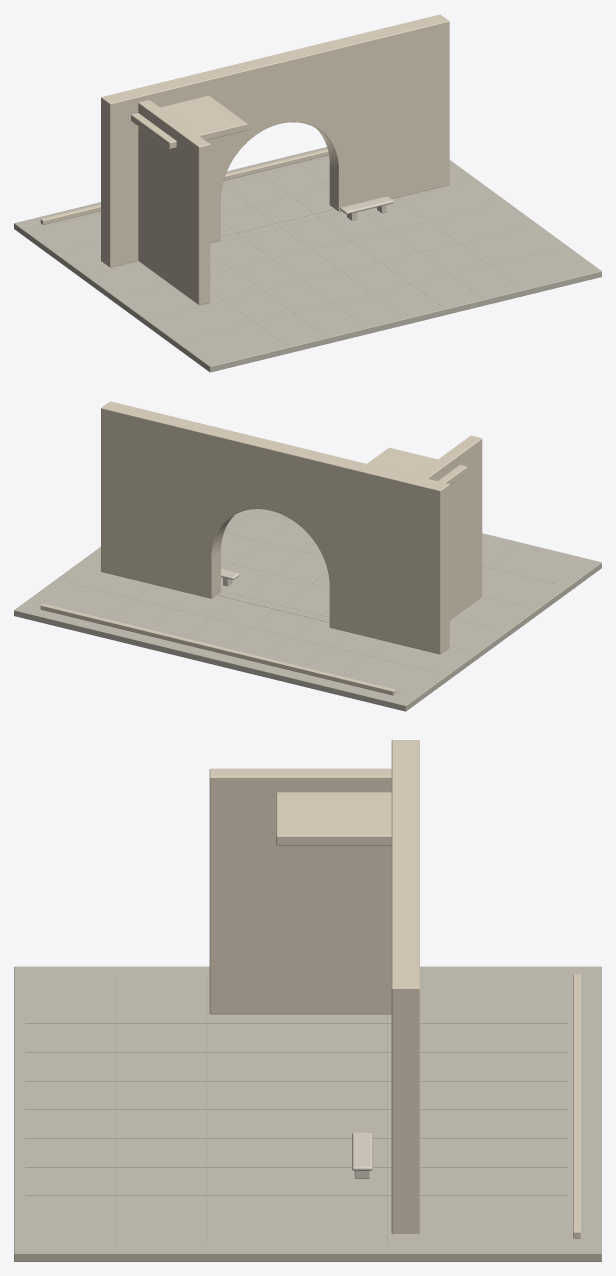
File: daylight.glb
3 renders of one model, top to bottom at view 1: azimuth 30°, elevation 25°; view 2: azimuth 150°, elevation 25°; view 3: azimuth 270°, elevation 25°, orthographic. The views are drawn at different scales.
Parts seen in each view (by area): view 1: Terrace / substantial stone slab, 01 / Honed stone architecture / Architecture / warm mineral , Terrace / distant parapet cap, 02 / Stone details and sculptural bench / Furniture / ivory ; view 2: 01 / Honed stone architecture / Architecture / warm mineral , Terrace / substantial stone slab, Terrace / distant parapet cap; view 3: Terrace / substantial stone slab, 01 / Honed stone architecture / Architecture / warm mineral , 02 / Stone details and sculptural bench / Architecture / rec, Terrace / distant parapet cap, 02 / Stone details and sculptural bench / Furniture / ivory .
Boxes of the visible parts, bbox=[...] form: Terrace / substantial stone slab: bbox=[14, 147, 601, 372]; 01 / Honed stone architecture / Architecture / warm mineral : bbox=[101, 14, 449, 305]; Terrace / distant parapet cap: bbox=[40, 149, 328, 224]; 02 / Stone details and sculptural bench / Furniture / ivory : bbox=[340, 196, 393, 220]; 01 / Honed stone architecture / Architecture / warm mineral : bbox=[101, 401, 482, 654]; Terrace / substantial stone slab: bbox=[14, 509, 601, 711]; Terrace / distant parapet cap: bbox=[40, 603, 395, 695]; Terrace / substantial stone slab: bbox=[14, 966, 601, 1261]; 01 / Honed stone architecture / Architecture / warm mineral : bbox=[209, 740, 419, 1233]; 02 / Stone details and sculptural bench / Architecture / rec: bbox=[25, 976, 567, 1243]; Terrace / distant parapet cap: bbox=[573, 974, 580, 1238]; 02 / Stone details and sculptural bench / Furniture / ivory : bbox=[352, 1132, 372, 1178].
Size of what is drawn, in the model's own units: 30 by 12.44 by 26.
